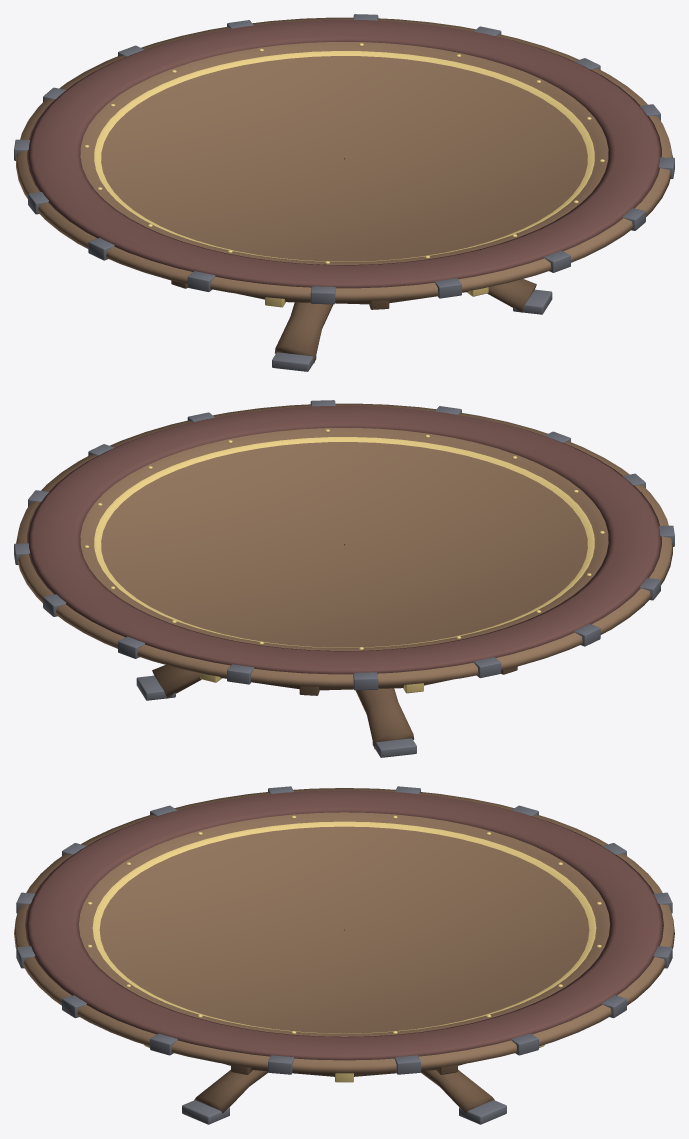
File: battle_table.glb
3 views of the same model, one above another, from view 1: azimuth 30°, elevation 25°; view 2: azimuth 150°, elevation 25°; view 3: azimuth 270°, elevation 25° (orthographic).
Parts seen in each view (by area): view 1: TableBodySlab, TableBolsterLeather, TableBrassInlay, TableFoot_2, TableFoot_3, TableFootPad_2, TableFootPad_3; view 2: TableBodySlab, TableBolsterLeather, TableBrassInlay, TableFoot_1, TableFoot_0, TableFootPad_1, TableFootPad_0; view 3: TableBodySlab, TableBolsterLeather, TableBrassInlay, TableFoot_0, TableFoot_3, TableFootPad_0, TableFootPad_3.
Boxes of the visible parts, <box> form: TableBodySlab: <box>16,17,672,301</box>; TableBolsterLeather: <box>27,19,661,288</box>; TableBrassInlay: <box>94,51,594,261</box>; TableFoot_2: <box>275,302,333,362</box>; TableFoot_3: <box>487,279,536,312</box>; TableFootPad_2: <box>272,352,316,371</box>; TableFootPad_3: <box>513,289,552,314</box>; TableBodySlab: <box>16,403,672,687</box>; TableBolsterLeather: <box>27,405,661,674</box>; TableBrassInlay: <box>94,437,594,647</box>; TableFoot_1: <box>355,688,413,748</box>; TableFoot_0: <box>152,665,201,698</box>; TableFootPad_1: <box>372,738,416,757</box>; TableFootPad_0: <box>136,675,175,700</box>; TableBodySlab: <box>14,788,674,1073</box>; TableBolsterLeather: <box>25,790,663,1060</box>; TableBrassInlay: <box>92,821,596,1033</box>; TableFoot_0: <box>421,1070,494,1113</box>; TableFoot_3: <box>194,1070,267,1113</box>; TableFootPad_0: <box>459,1100,506,1124</box>; TableFootPad_3: <box>182,1100,229,1124</box>.
Size of the model in its own units: 3.78 by 0.8754 by 3.78.
